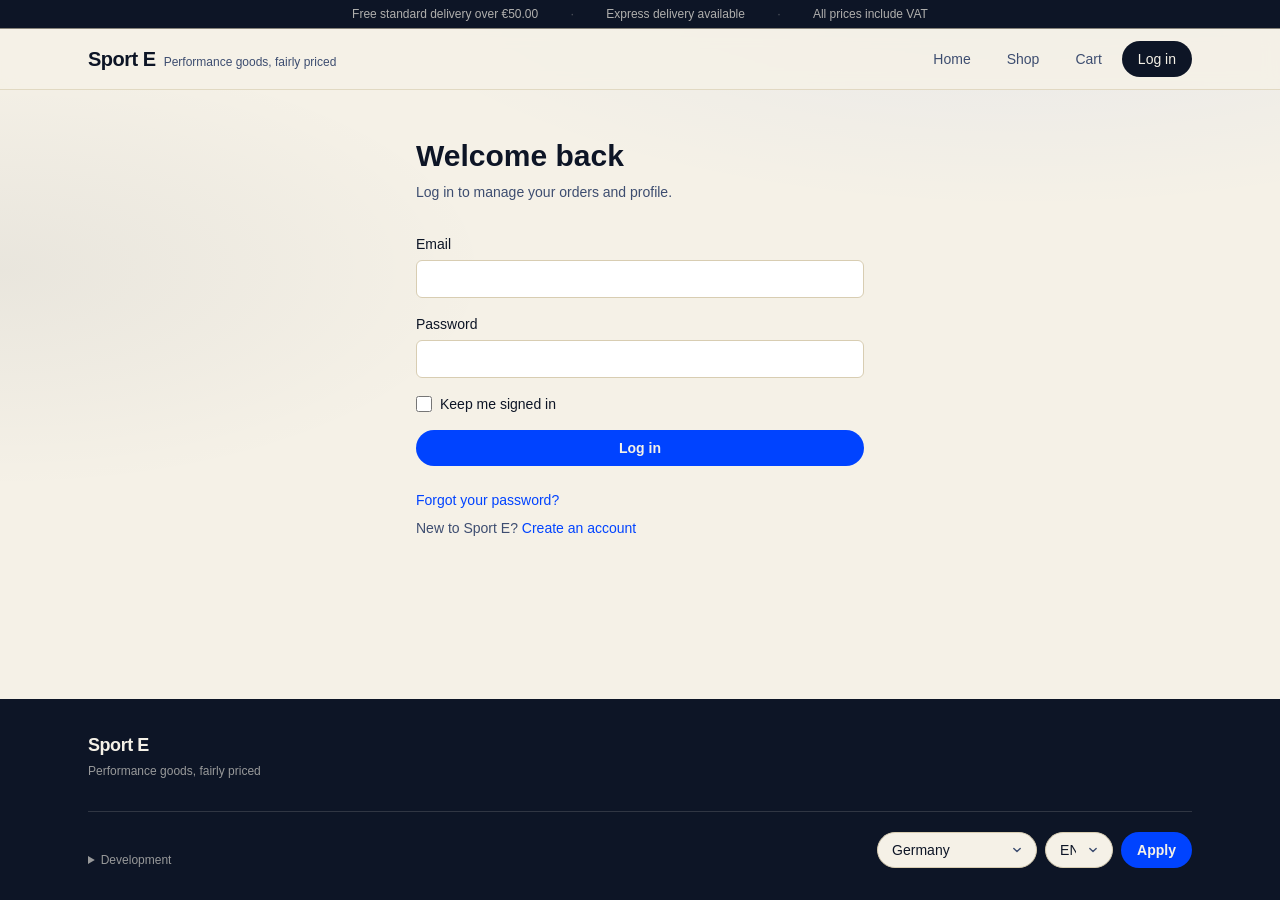
Test: identity pages › shows a localized error when credentials are invalid
The width and height of the screenshot is (1280, 900).
Type "flow@example.test" into the field labelled "Email". click: point(640, 279)
box: [416,260,864,298]
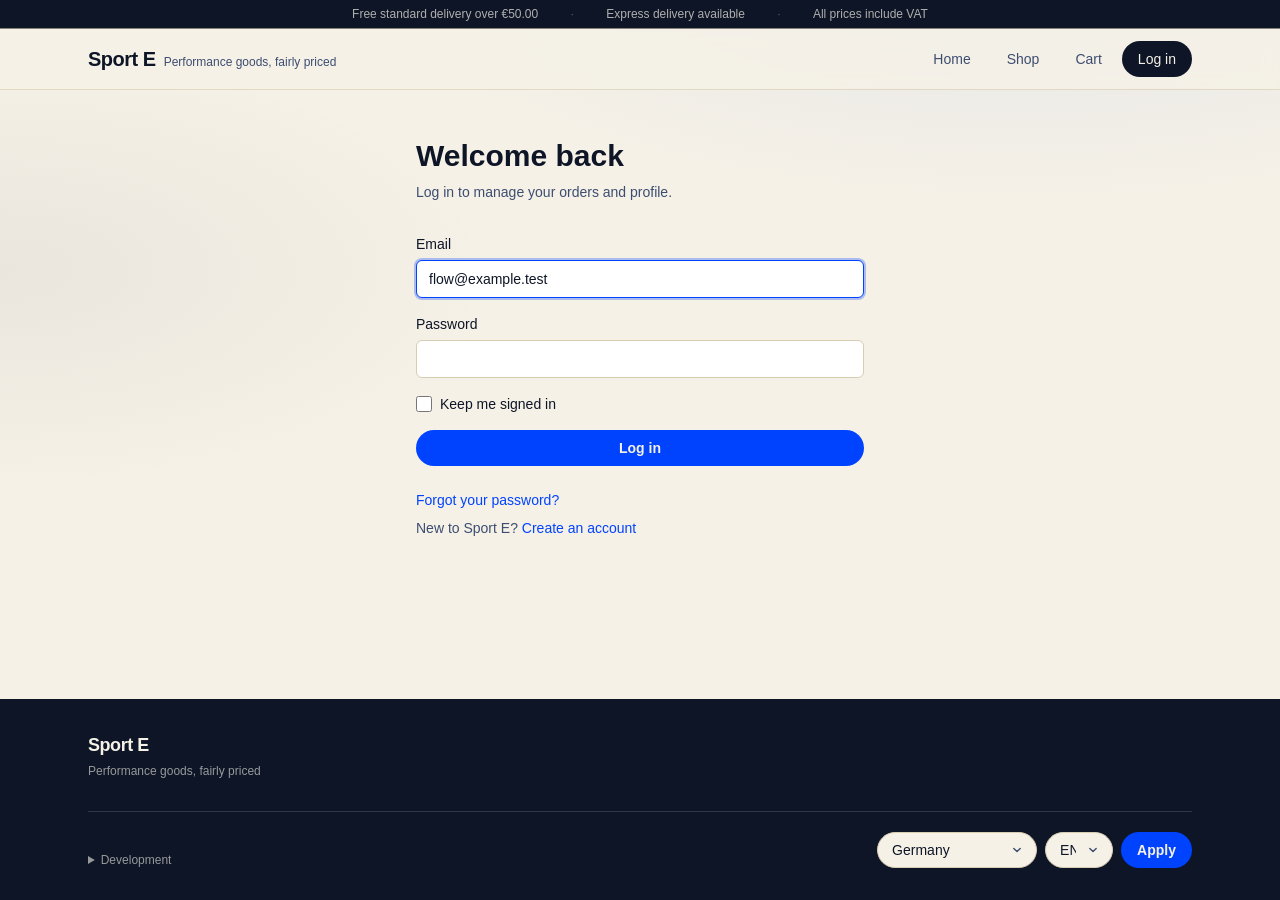
Type "wrong" into the password field labelled "Password". click: point(640, 359)
box: [416,340,864,378]
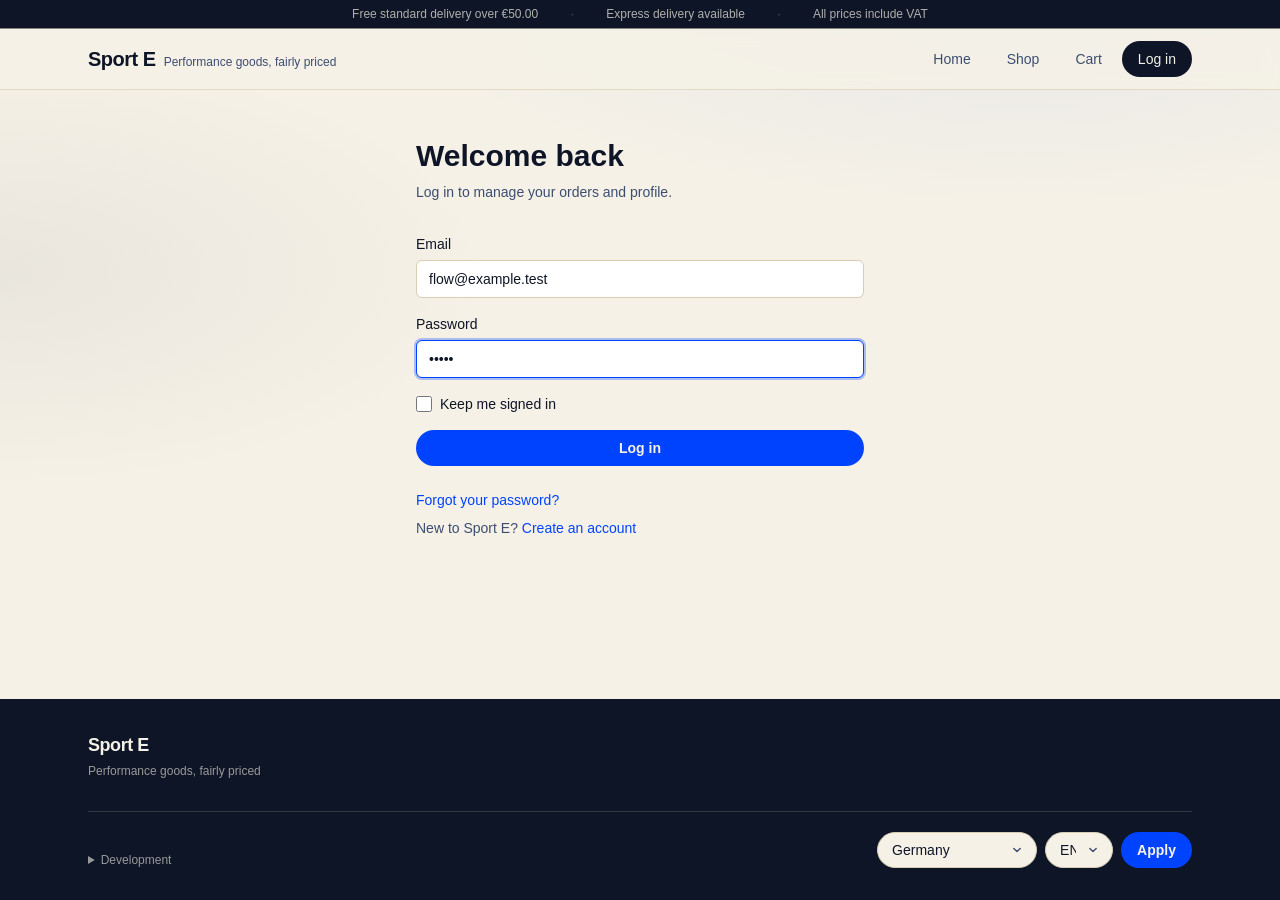
Click the button "Log in". click: point(640, 448)
box: [416,430,864,466]
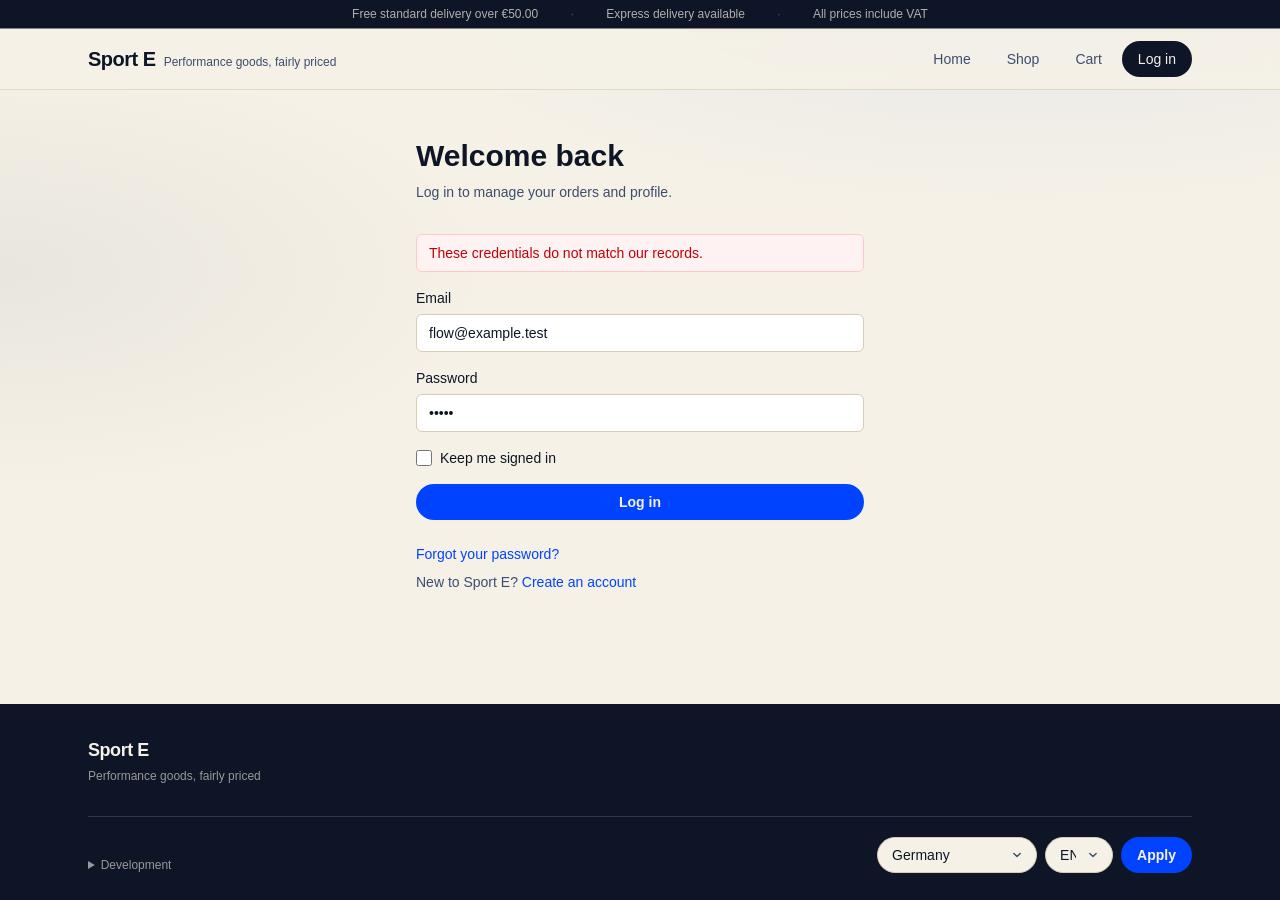
Result: the text "These credentials do not match our records." is shown at [416,234,864,272]
